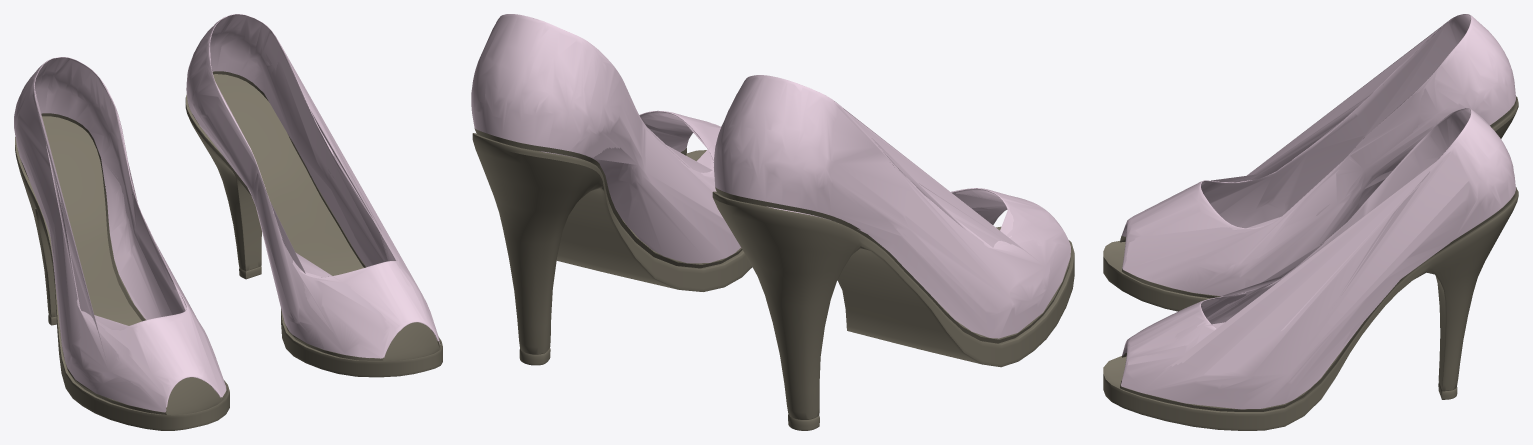
Rendered from clasic lady heels.fbx.
The picture shows the model from 3 angles, left to right: view 1: azimuth 30°, elevation 25°; view 2: azimuth 150°, elevation 25°; view 3: azimuth 270°, elevation 25°; orthographic projection. The views are drawn at different scales.
Visible parts, largest first — view 1: Shoe_02, Shoe_02_1; view 2: Shoe_02, Shoe_02_1; view 3: Shoe_02, Shoe_02_1.
Part boxes in pixels (x1,y1,x2,y2): Shoe_02: (14, 14, 440, 412); Shoe_02_1: (15, 71, 442, 430); Shoe_02: (471, 14, 1070, 338); Shoe_02_1: (472, 128, 1074, 430); Shoe_02: (1121, 14, 1515, 409); Shoe_02_1: (1103, 96, 1518, 430).
Size of the model in its own units: 453 by 331 by 449.
